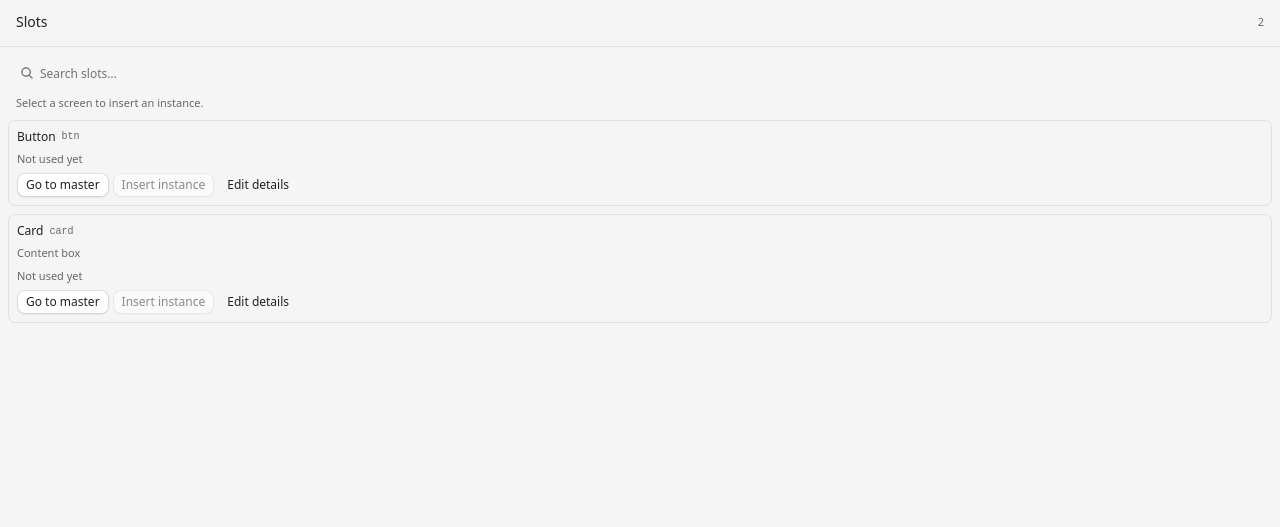
<ComponentsPanel /> › filters by name, key and description
Type "content" into the field labelled "Search slots" at (640, 73), box [12,59,1268,87]
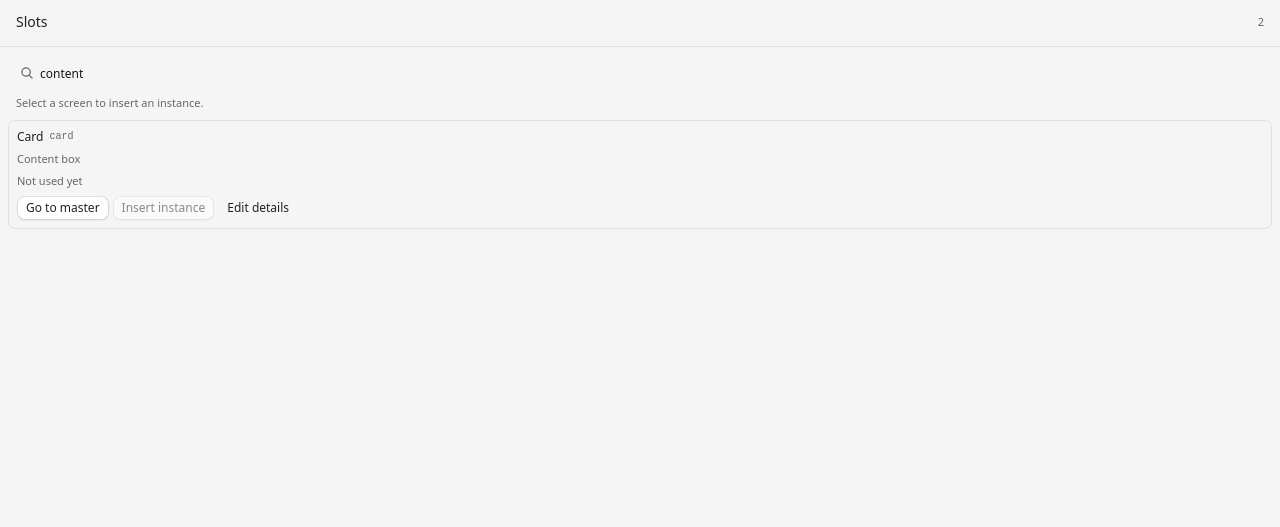
Expected: the list item with test id "component-row-card" is shown, [8,120,1272,228]
Result: the list item with test id "component-row-btn" is gone
Replace the text in the field named "Search slots" with "zzz" at (640, 73), box [12,59,1268,87]
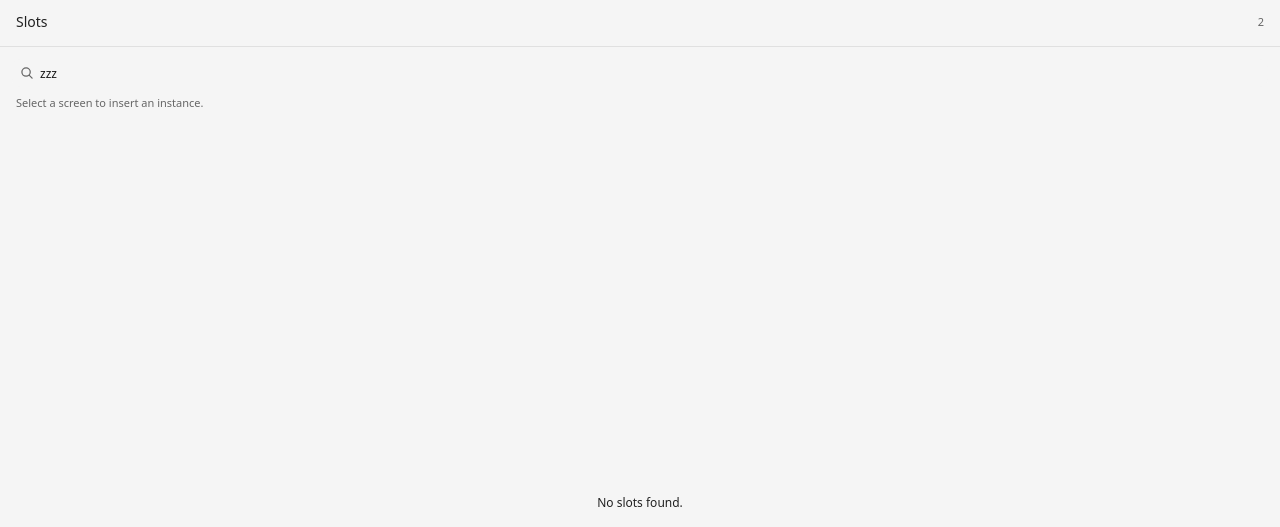
Result: the text "No slots found." is shown at [597,495,683,511]
